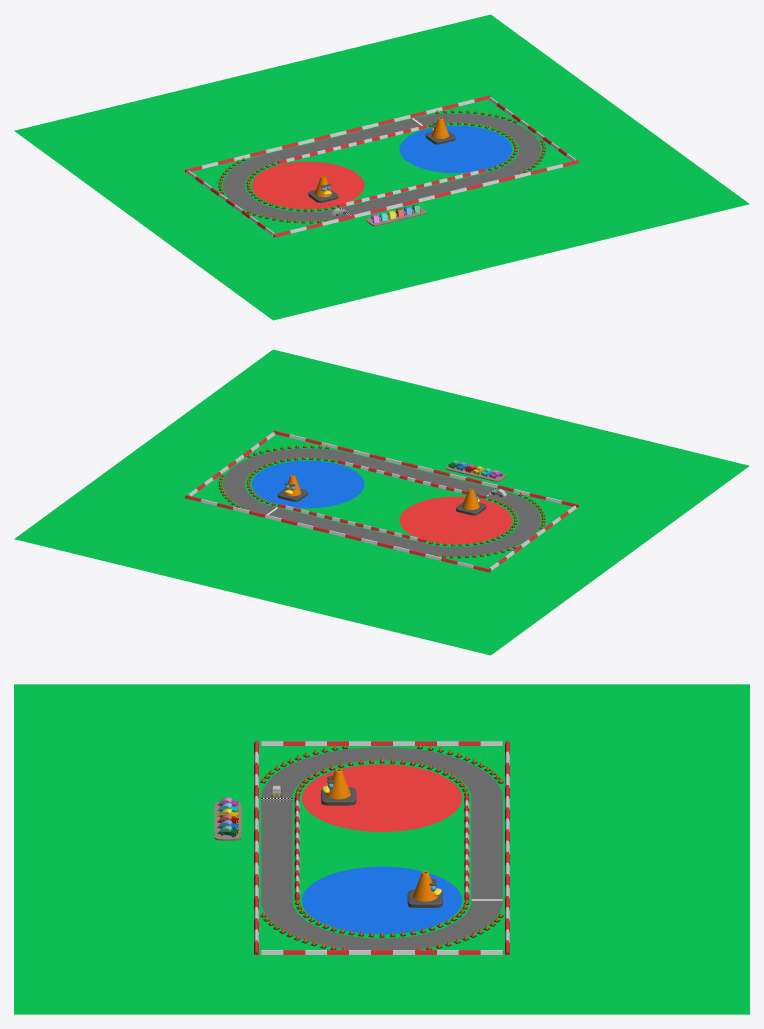
Rendered from Track030.fbx.
The picture shows the model from 3 angles, top to bottom: view 1: azimuth 30°, elevation 25°; view 2: azimuth 150°, elevation 25°; view 3: azimuth 270°, elevation 25°; orthographic projection. The views are drawn at different scales.
Visible parts, largest first — view 1: Grass, Road, Grass_Inner, Gravel_CircleBlue, Gravel_CircleRed, Barrier, Barrier.002, Barrier.005, Barrier.004; view 2: Grass, Road, Grass_Inner, Gravel_CircleRed, Gravel_CircleBlue, Barrier.002, Barrier, Barrier.005, Barrier.004; view 3: Grass, Road, Grass_Inner, Gravel_CircleRed, Gravel_CircleBlue, Barrier.001, Barrier.003, Barrier, Barrier.002, Barrier.004, Barrier.005.
Part boxes in pixels (x1,y1,x2,y2): Grass: (14,14,749,320); Road: (223,113,540,221); Grass_Inner: (245,122,518,211); Gravel_CircleBlue: (399,125,512,173); Gravel_CircleRed: (251,161,364,209); Barrier: (273,160,578,237); Barrier.002: (185,95,490,172); Barrier.005: (277,125,426,163); Barrier.004: (337,168,486,207); Grass: (14,349,749,655); Road: (223,448,540,556); Grass_Inner: (245,457,518,546); Gravel_CircleRed: (399,496,512,544); Gravel_CircleBlue: (251,460,364,508); Barrier.002: (185,495,490,572); Barrier: (273,430,578,507); Barrier.005: (277,503,426,542); Barrier.004: (337,460,486,498); Grass: (14,684,749,1014); Road: (261,747,502,949); Grass_Inner: (292,760,471,938); Gravel_CircleRed: (302,764,461,831); Gravel_CircleBlue: (302,866,461,934); Barrier.001: (261,950,502,954); Barrier.003: (261,741,502,745); Barrier: (254,740,258,954); Barrier.002: (505,740,509,954); Barrier.004: (294,795,299,900); Barrier.005: (464,795,469,900).
Size of the model in its own units: 234 by 220 by 9.3.
